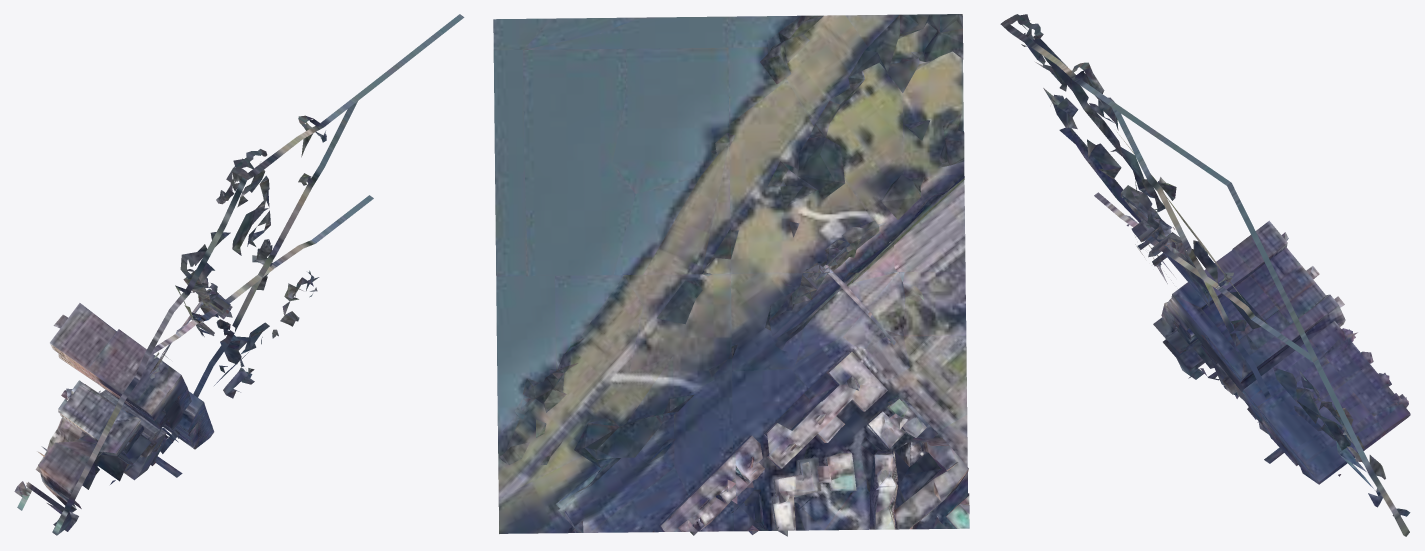
3 views of the same model, side by side, from view 1: azimuth 30°, elevation 25°; view 2: azimuth 150°, elevation 25°; view 3: azimuth 270°, elevation 25° (orthographic). The views are drawn at different scales.
Size of the model in its own units: 324 by 288 by 258.
1 material, 1 textured.
